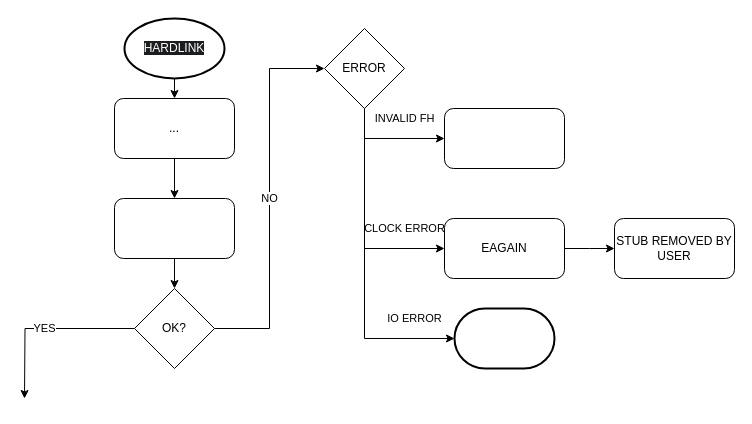
The diagram is 752 pixels wide and 424 high, and some of its shapes have lost their labels. Here are the shapes that lost their labels. From the top down, the box of each, then its label:
(444, 108, 564, 168): remove STUB (CLOCKs ignored)
(114, 198, 234, 258): Add Link to LinkLog
(453, 307, 555, 369): END
